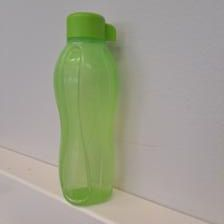bottle: (55, 11, 125, 205)
